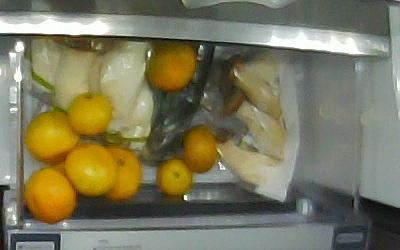tangerine: (24, 108, 80, 163), (23, 166, 76, 223), (63, 141, 117, 196), (143, 42, 196, 91), (100, 145, 141, 199), (66, 91, 111, 135), (181, 125, 217, 173), (155, 156, 191, 196)
